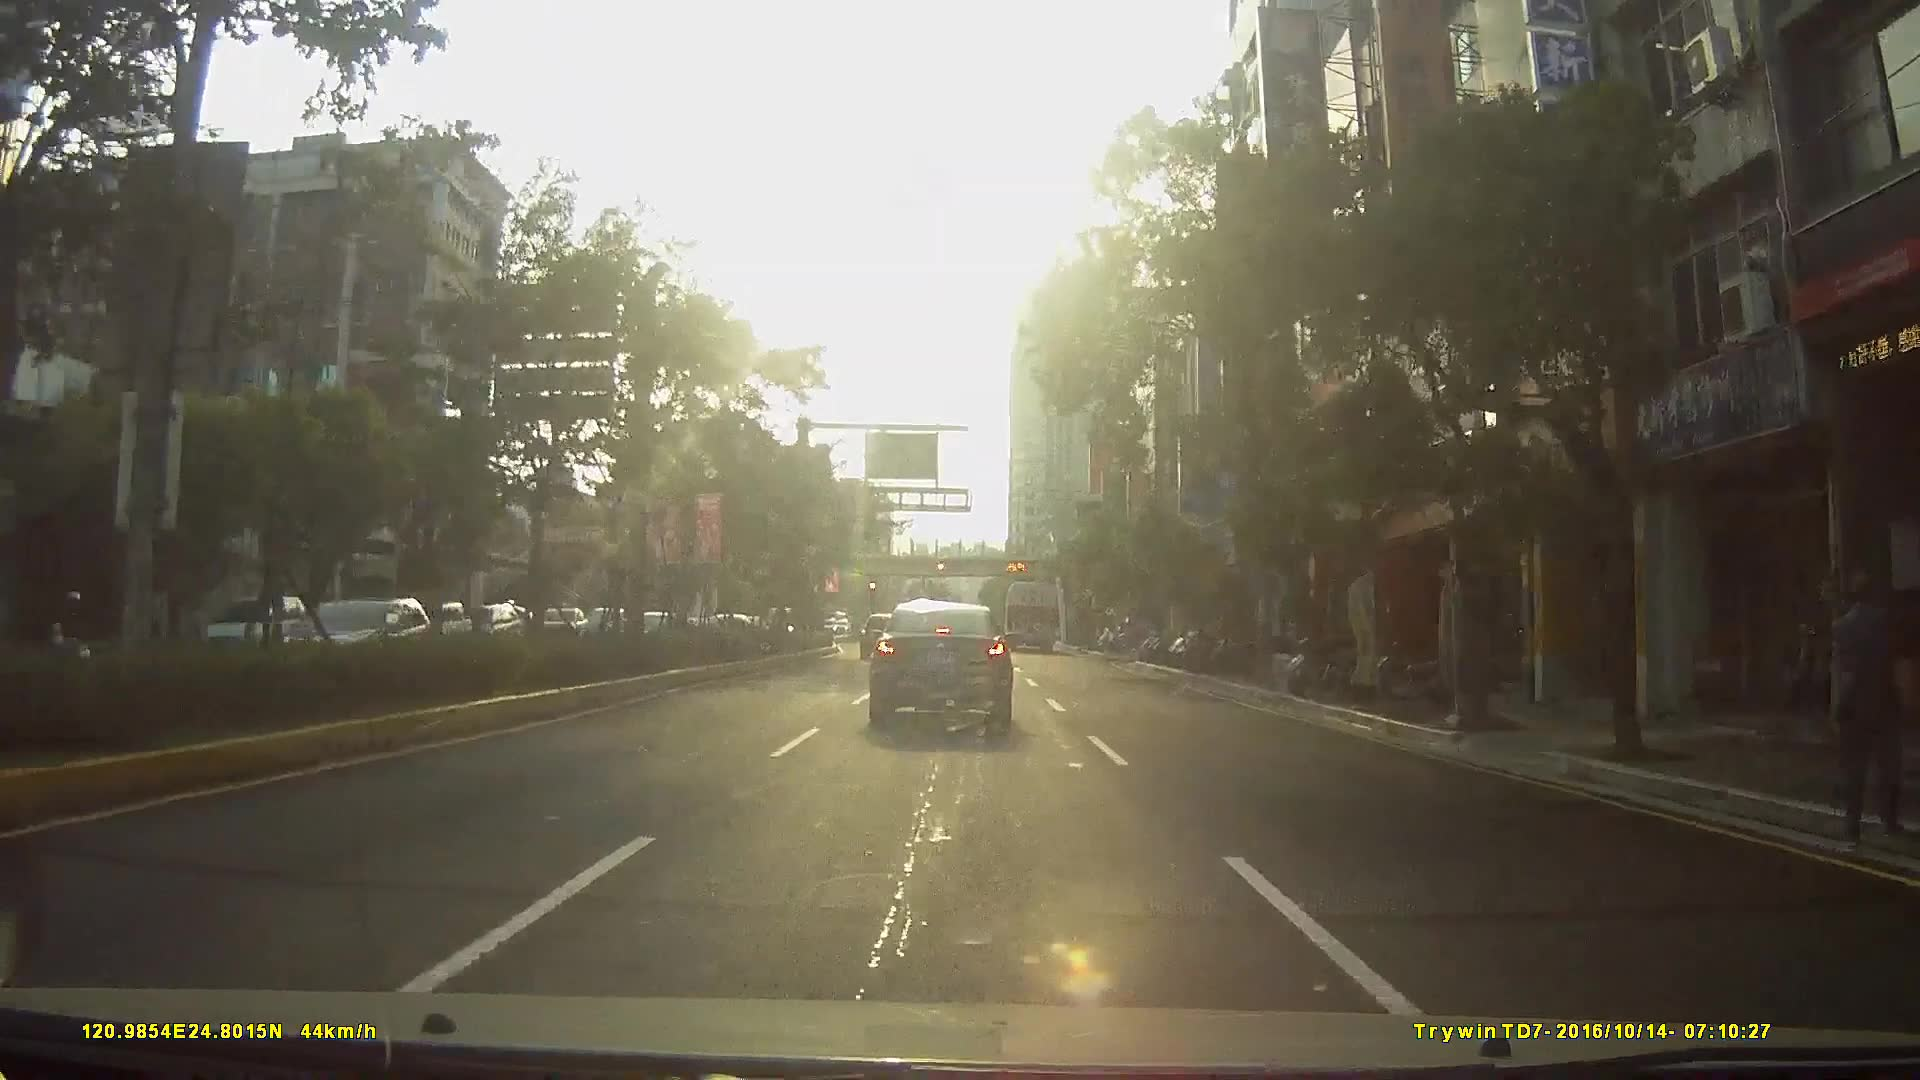pedestrian: (1820, 558, 1919, 848)
vehicle: (865, 597, 1015, 726), (266, 595, 451, 685), (190, 593, 310, 665), (1000, 579, 1060, 650), (456, 601, 518, 649), (409, 601, 470, 649), (533, 607, 588, 644), (858, 611, 899, 659)
